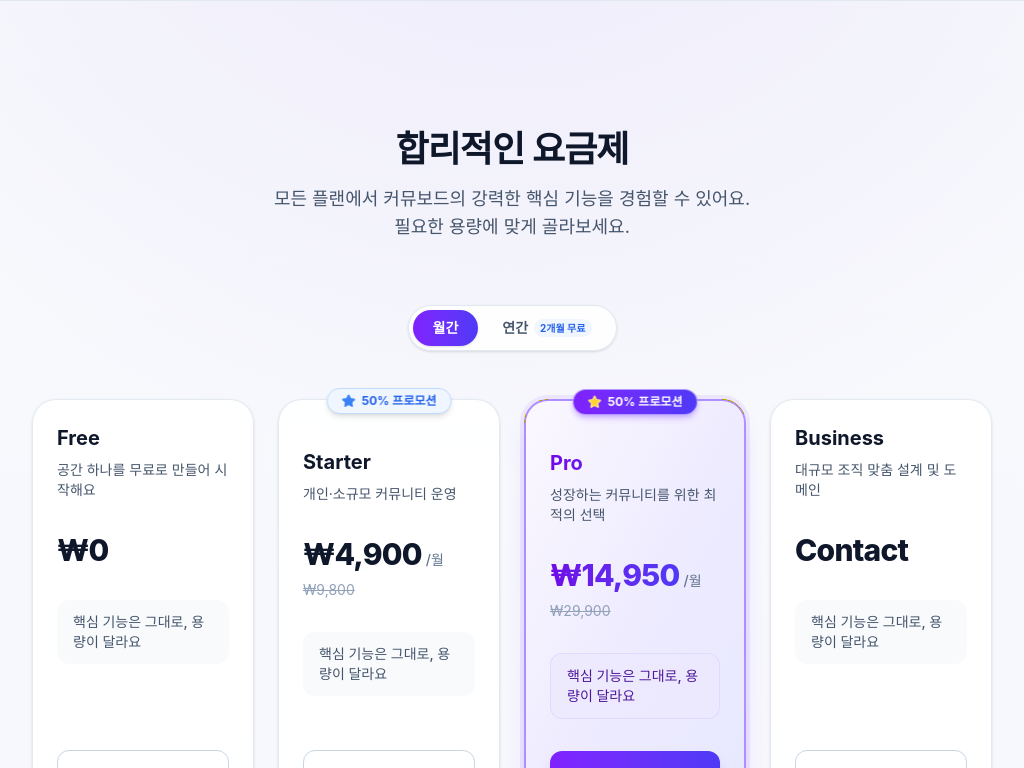
Pricing — plan_pro_yearly 정가 인앱↔랜딩 정합 (guards BUG-286-07) › 연간 Pro 정가는 ₩299,000(SSoT) — 구 하드코딩 ₩358,800 이 아니다
// 기본은 월간 탭이므로 연간 탭을 클릭해 연간 카드로 전환한다.
Click the button "연간 2개월 무료" at (547,328), box [482,310,612,346]
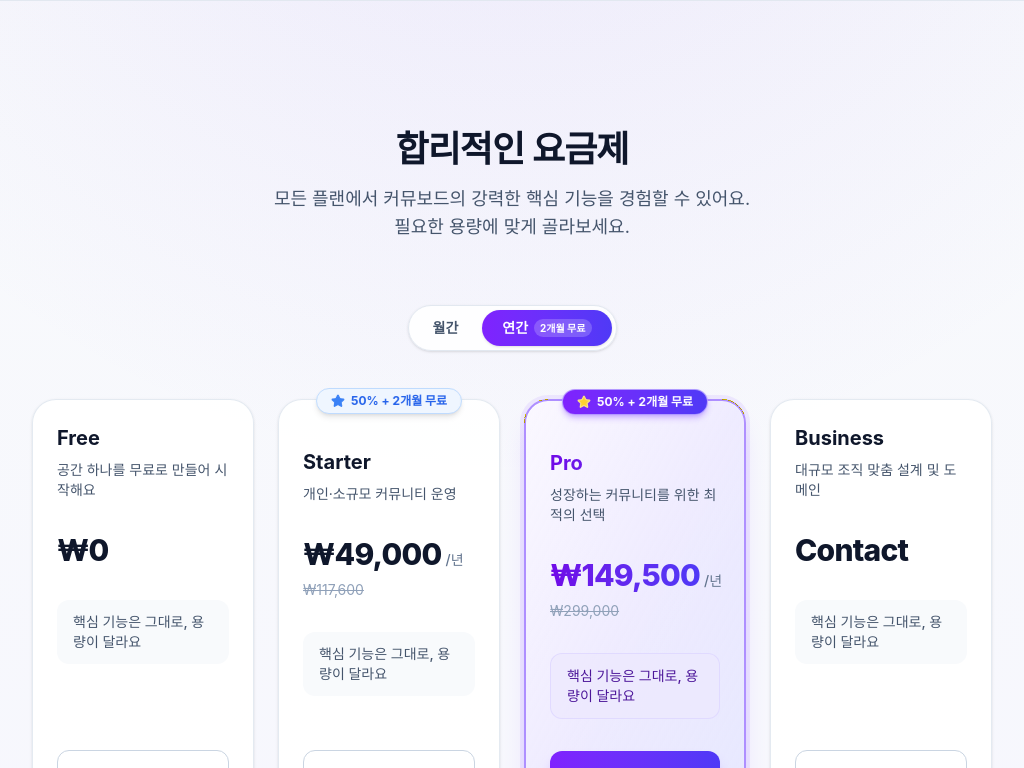
Now the text "₩299,000" is shown, box [550,602,619,619]
